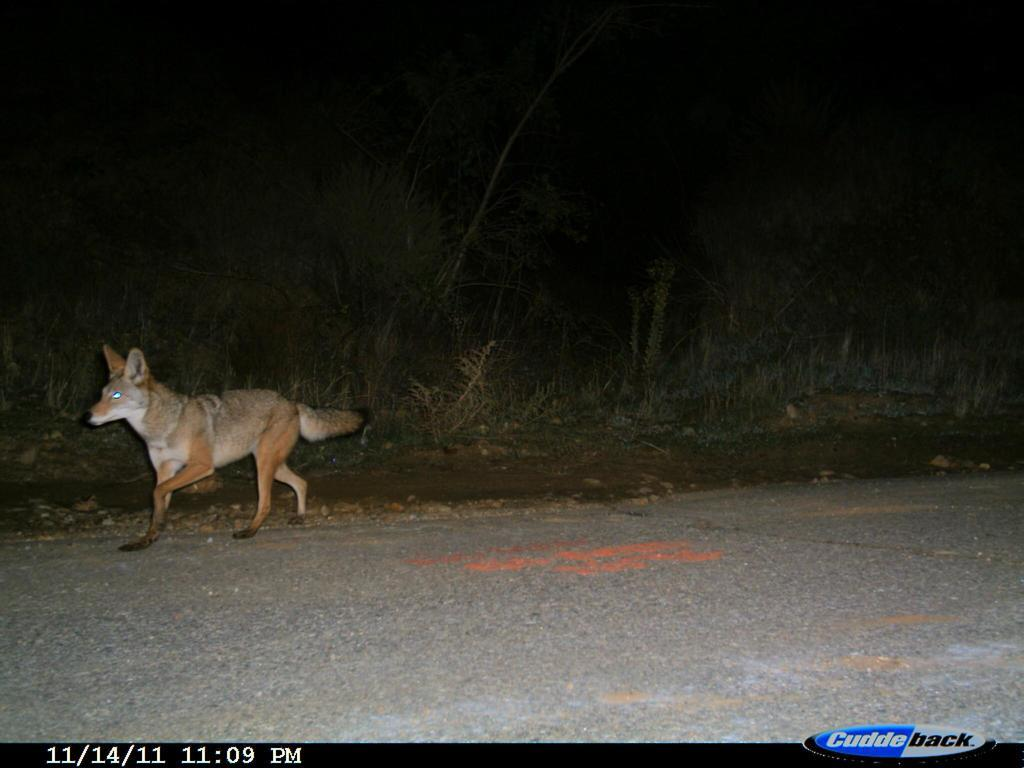coyote: (72, 333, 402, 561)
